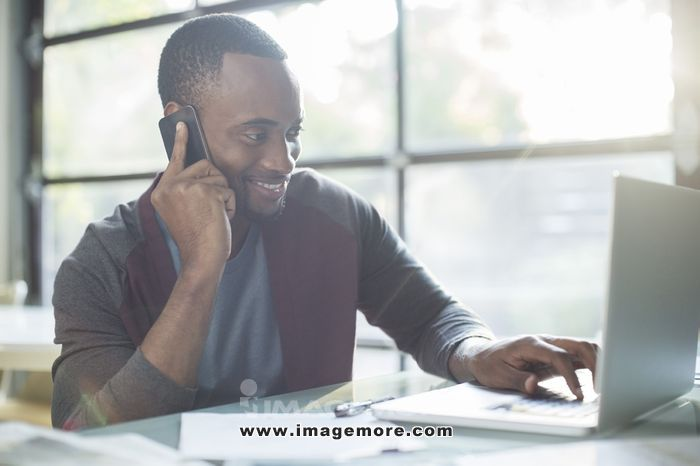phone: (167, 101, 221, 199)
talk: (135, 91, 310, 252)
